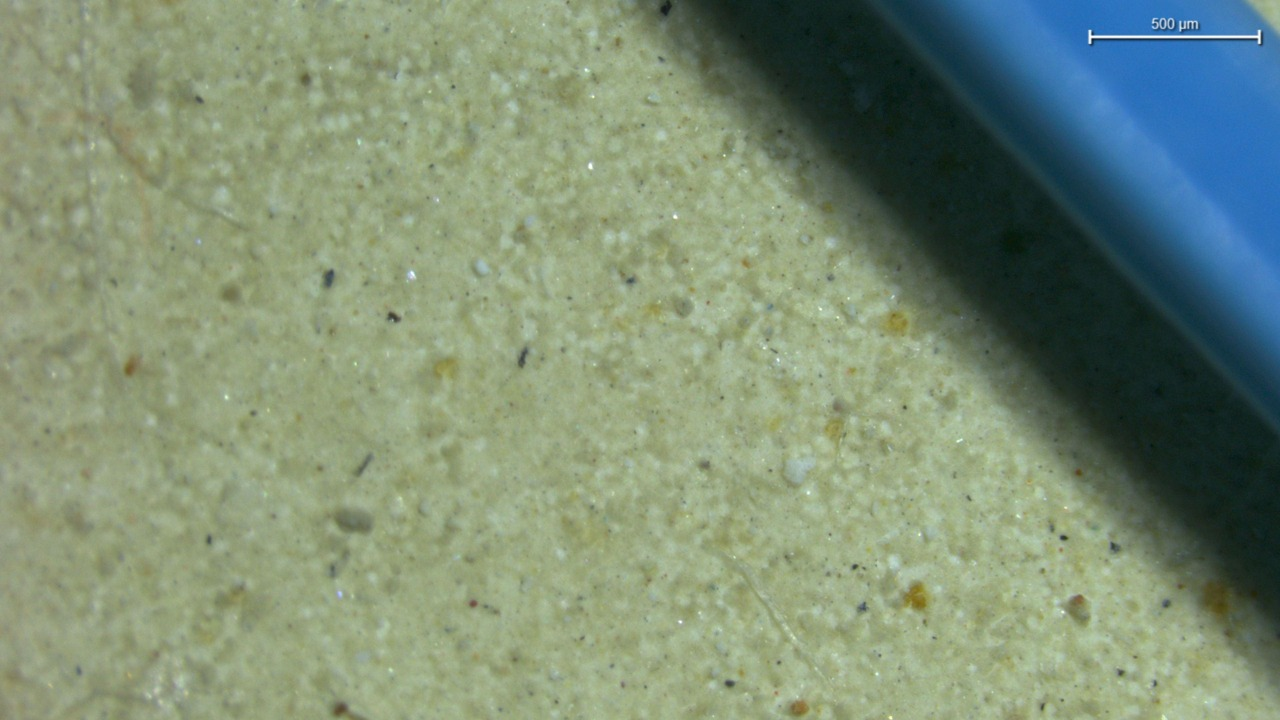microplastic_fragment: (783, 456, 816, 486)
